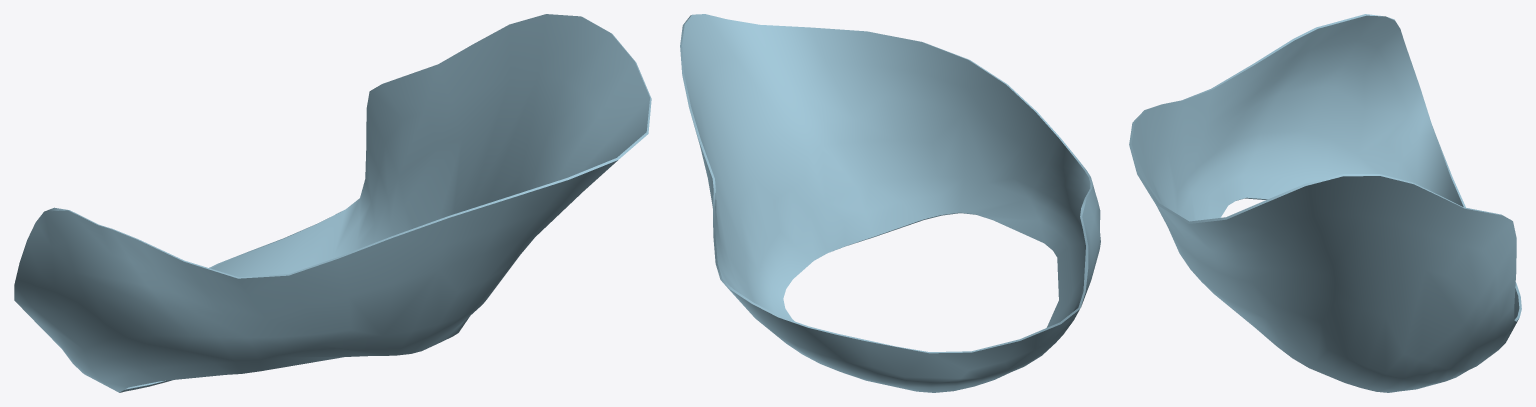
File: articulacoes-articular-capsule-of-temporomandibular-joint-l.glb
The picture shows the model from 3 angles, left to right: view 1: azimuth 30°, elevation 25°; view 2: azimuth 150°, elevation 25°; view 3: azimuth 270°, elevation 25°; orthographic projection. The views are drawn at different scales.
Parts seen in each view (by area): view 1: Articular capsule of temporomandibular joint.l; view 2: Articular capsule of temporomandibular joint.l; view 3: Articular capsule of temporomandibular joint.l.
Part boxes in pixels (x1,y1,x2,y2): Articular capsule of temporomandibular joint.l: [14, 14, 651, 392]; Articular capsule of temporomandibular joint.l: [680, 14, 1100, 392]; Articular capsule of temporomandibular joint.l: [1129, 14, 1521, 392].
Bounding box in the file's own units: 0.0229 × 0.0129 × 0.0147.
